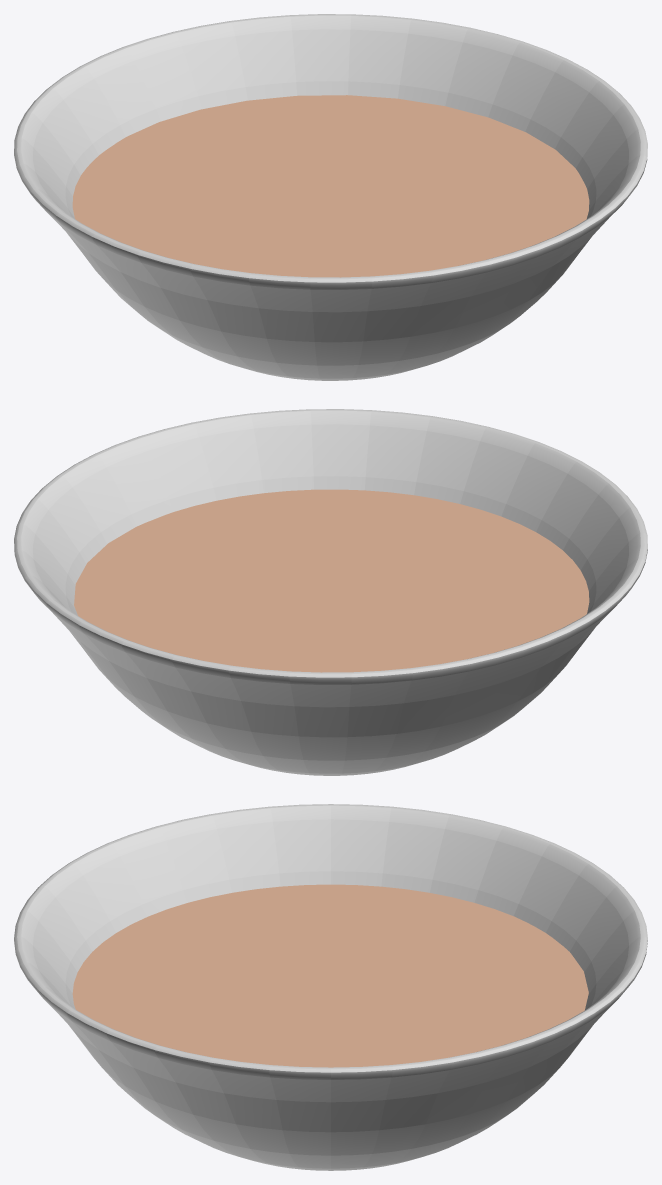
File: soy sauce.fbx
The picture shows the model from 3 angles, top to bottom: view 1: azimuth 30°, elevation 25°; view 2: azimuth 150°, elevation 25°; view 3: azimuth 270°, elevation 25°; orthographic projection.
Visible parts, largest first — view 1: Bowl.002, Cylinder004; view 2: Bowl.002, Cylinder004; view 3: Bowl.002, Cylinder004.
Part boxes in pixels (x1,y1,x2,y2): Bowl.002: [14, 14, 647, 380]; Cylinder004: [72, 95, 589, 277]; Bowl.002: [14, 409, 647, 775]; Cylinder004: [74, 489, 589, 672]; Bowl.002: [14, 804, 647, 1170]; Cylinder004: [72, 884, 588, 1067].
Bounding box in the file's own units: 171 × 57.01 × 171.
